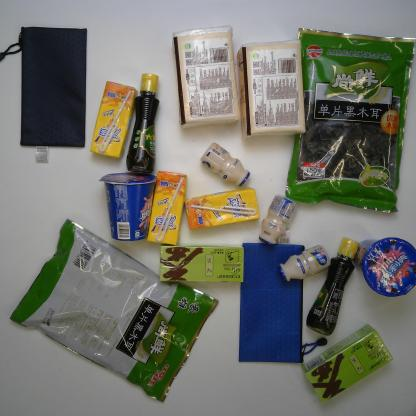Dessert: (96, 170, 158, 245), (354, 236, 416, 299)
Dried Food: (8, 218, 220, 404), (284, 25, 416, 215)
Drink: (90, 80, 136, 162), (181, 186, 261, 232), (146, 169, 188, 247)
Instant Drink: (301, 323, 394, 403), (156, 242, 246, 285)
Milk: (198, 141, 251, 190), (256, 194, 298, 246), (278, 244, 331, 284)
Seasoner: (304, 235, 361, 336), (124, 72, 162, 174)
Stationery: (0, 26, 92, 164), (238, 240, 328, 365)
Tissue: (170, 23, 243, 131), (236, 38, 310, 138)
